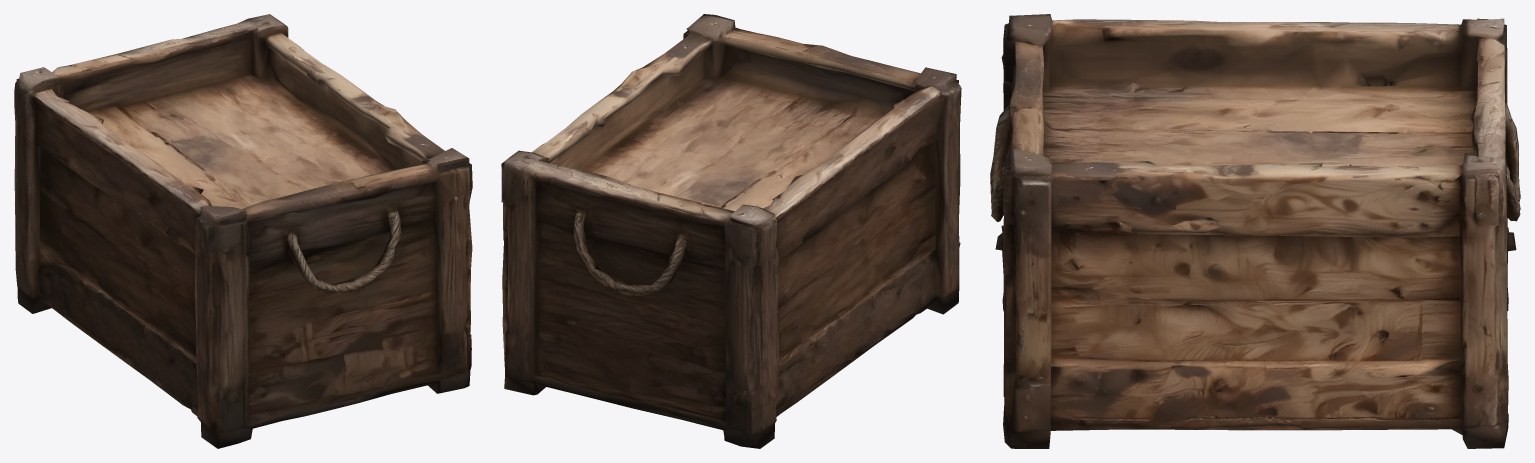
Rendered from crate.fbx.
3 renders of one model, left to right at view 1: azimuth 30°, elevation 25°; view 2: azimuth 150°, elevation 25°; view 3: azimuth 270°, elevation 25°, orthographic. The views are drawn at different scales.
Parts seen in each view (by area): view 1: crate; view 2: crate; view 3: crate.
Part boxes in pixels (<box>): crate: <box>14,14,472,448</box>; crate: <box>501,14,961,448</box>; crate: <box>990,14,1520,448</box>.
Bounding box in the file's own units: 0.576 × 0.4702 × 0.7998.
1 material, 1 textured.
